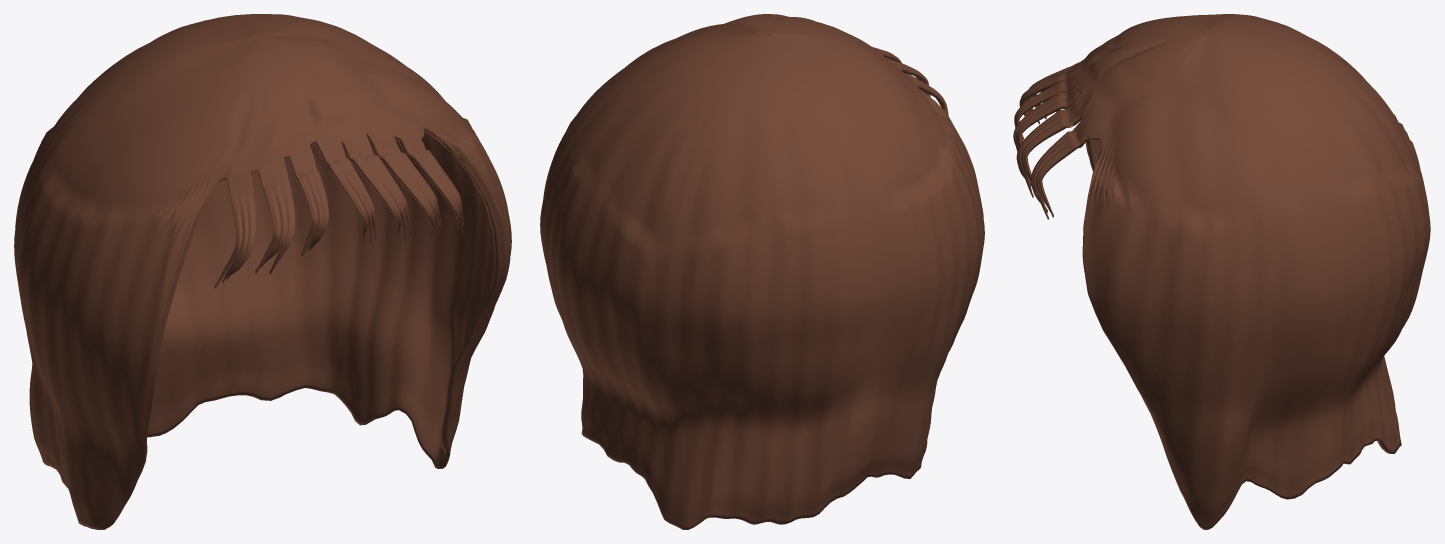
File: side-sweep-headband.glb
3 views of the same model, side by side, from view 1: azimuth 30°, elevation 25°; view 2: azimuth 150°, elevation 25°; view 3: azimuth 270°, elevation 25° (orthographic). The views are drawn at different scales.
Visible parts, largest first — view 1: Wispy bangs / continuous crown; view 2: Wispy bangs / continuous crown; view 3: Wispy bangs / continuous crown.
Boxes of the visible parts, x1=… form: Wispy bangs / continuous crown: x1=14, y1=14, x2=511, y2=529; Wispy bangs / continuous crown: x1=540, y1=14, x2=984, y2=529; Wispy bangs / continuous crown: x1=1013, y1=14, x2=1430, y2=529.
Size of the model in its own units: 0.8388 by 0.8786 by 0.788.
